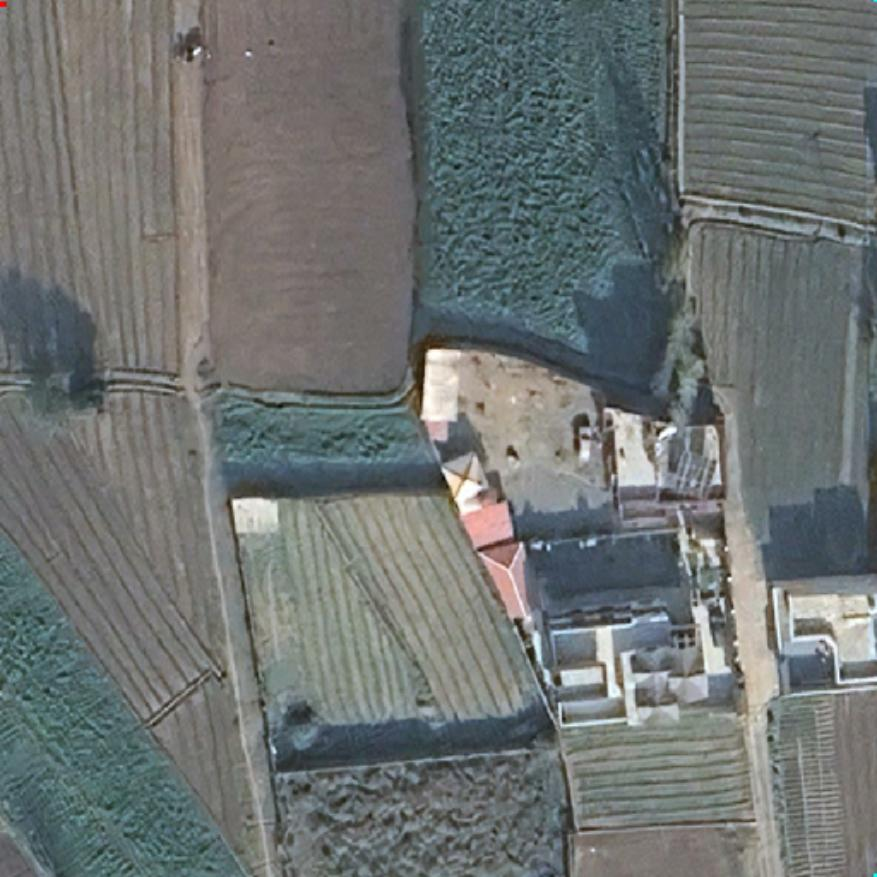Solarpanel: (670, 447, 721, 499)
